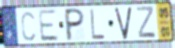C: (20, 10, 37, 43)
E: (37, 9, 60, 43)
L: (89, 8, 106, 41)
P: (65, 7, 86, 43)
V: (113, 5, 133, 41)
Z: (136, 5, 157, 40)
